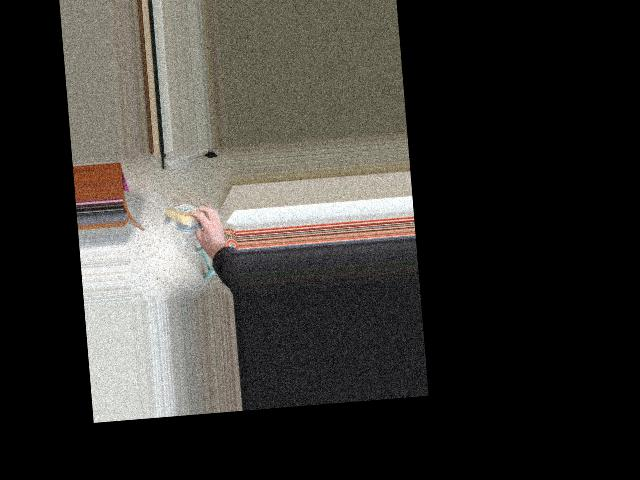cheese: (161, 198, 216, 235)
